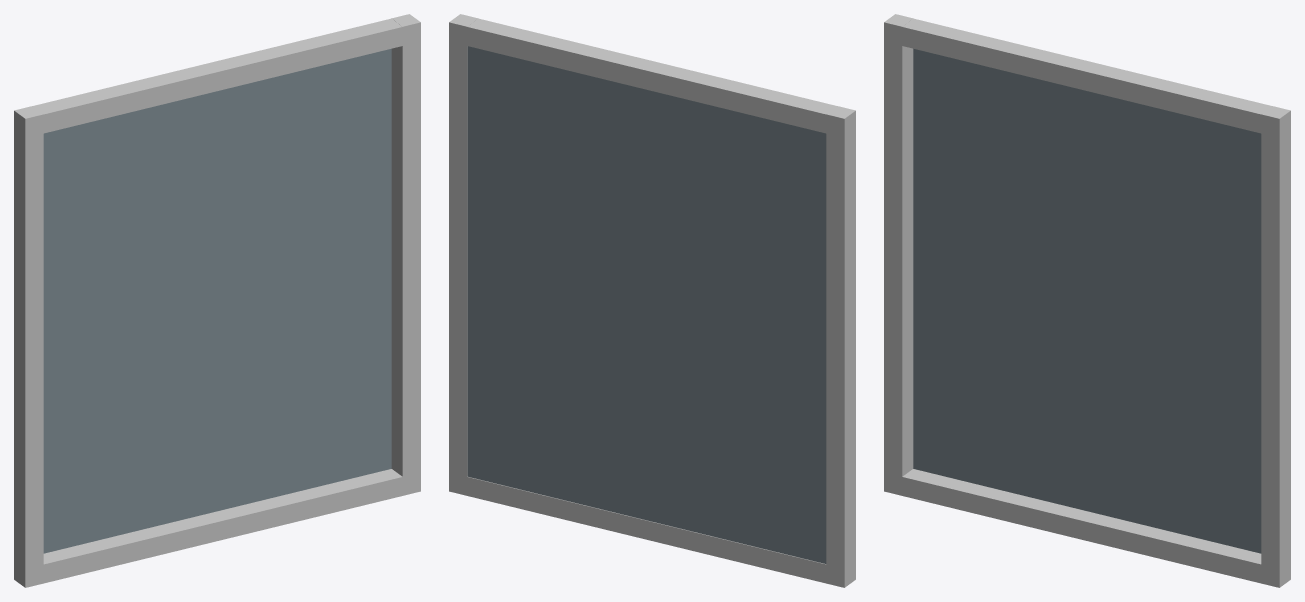
The model's file is BlankPainting.fbx.
3 views of the same model, side by side, from view 1: azimuth 30°, elevation 25°; view 2: azimuth 150°, elevation 25°; view 3: azimuth 330°, elevation 25° (orthographic).
Parts seen in each view (by area): view 1: Plane; view 2: Plane; view 3: Plane.
Part boxes in pixels (bbox=[...]): Plane: bbox=[14, 14, 420, 587]; Plane: bbox=[449, 14, 855, 587]; Plane: bbox=[884, 14, 1290, 587].
Bounding box in the file's own units: 287 × 325 × 14.31.
